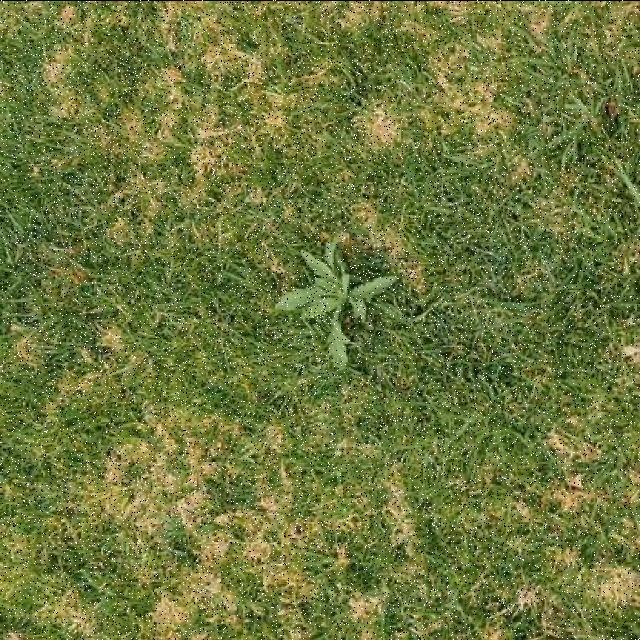weed: (277, 240, 398, 368)
